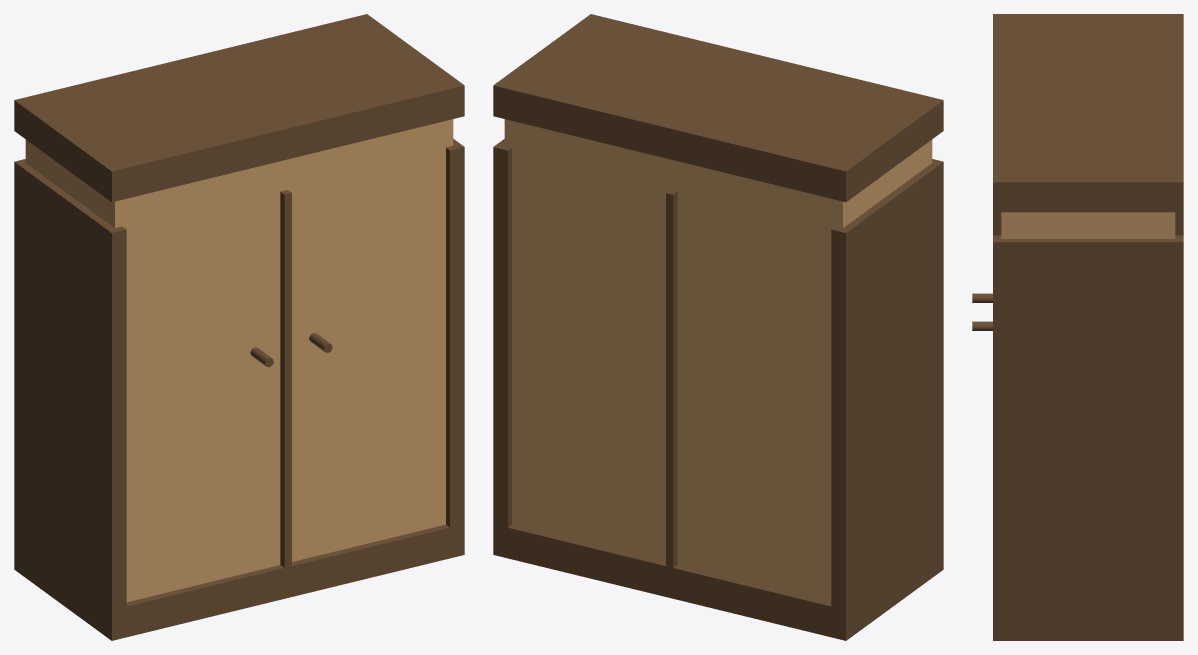
The model's file is storage.glb.
The picture shows the model from 3 angles, left to right: view 1: azimuth 30°, elevation 25°; view 2: azimuth 150°, elevation 25°; view 3: azimuth 270°, elevation 25°; orthographic projection. The views are drawn at different scales.
Bounding box in the file's own units: 0.96 × 1.22 × 0.51.
